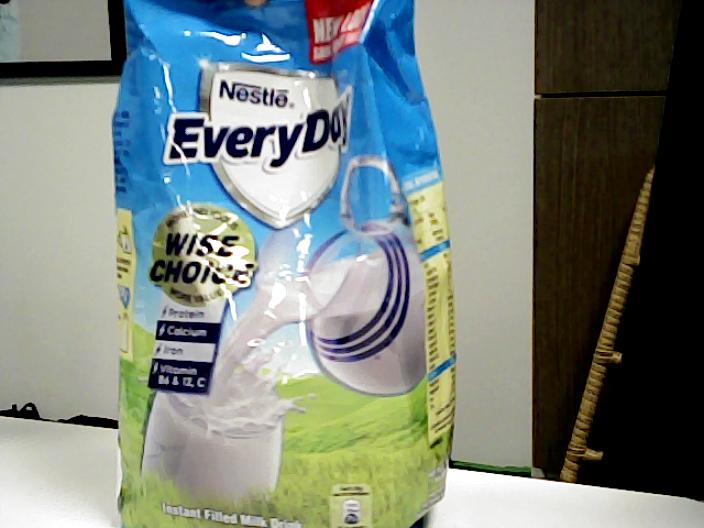Adult_Milk_600-699g_Halal_NonHealthy: (114, 1, 454, 528)
